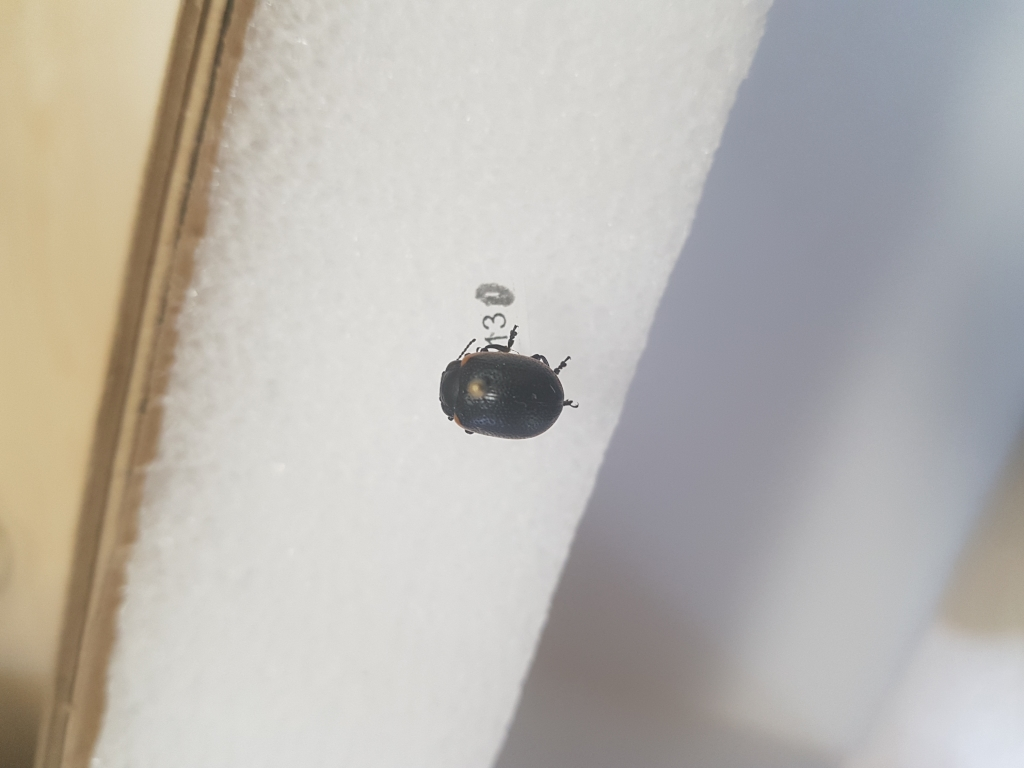Chrysolina_gypsophila: (436, 319, 581, 444)
